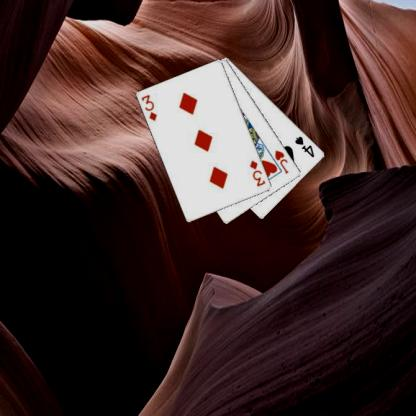3D: (247, 158, 267, 188), (138, 92, 158, 122)
4S: (292, 134, 315, 158)
JH: (272, 148, 290, 175)
